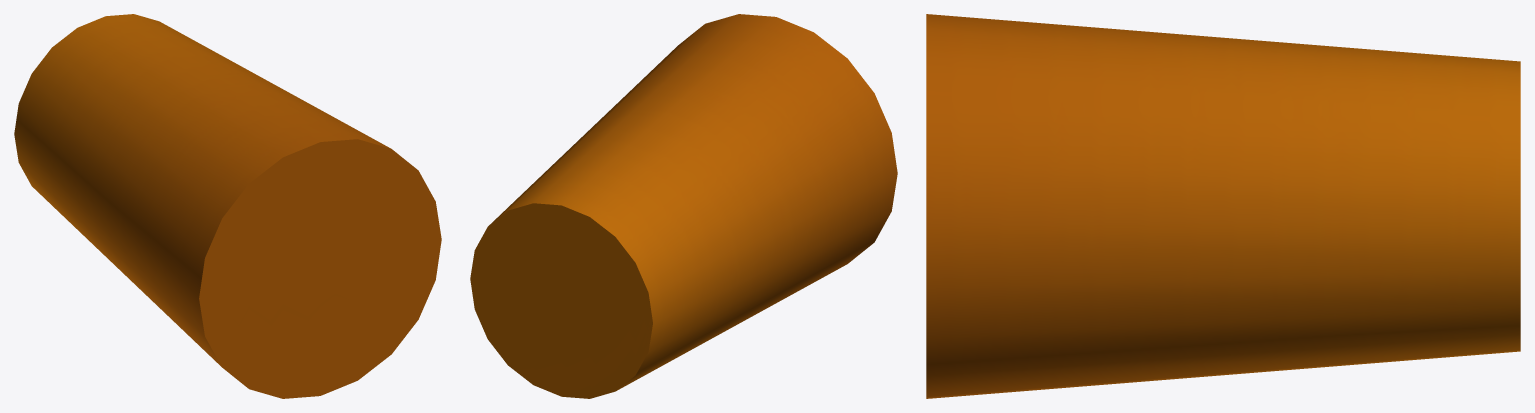
Rendered from carrot2_slices_5.fbx.
3 renders of one model, left to right at view 1: azimuth 30°, elevation 25°; view 2: azimuth 150°, elevation 25°; view 3: azimuth 270°, elevation 25°, orthographic. The views are drawn at different scales.
Visible parts, largest first — view 1: carrot_2_slices.005; view 2: carrot_2_slices.005; view 3: carrot_2_slices.005.
Boxes of the visible parts, x1,y1,x2,y2 form: carrot_2_slices.005: (14, 14, 441, 398); carrot_2_slices.005: (470, 14, 897, 398); carrot_2_slices.005: (926, 14, 1520, 398).
Size of the model in its own units: 77.3 by 77.3 by 118.
